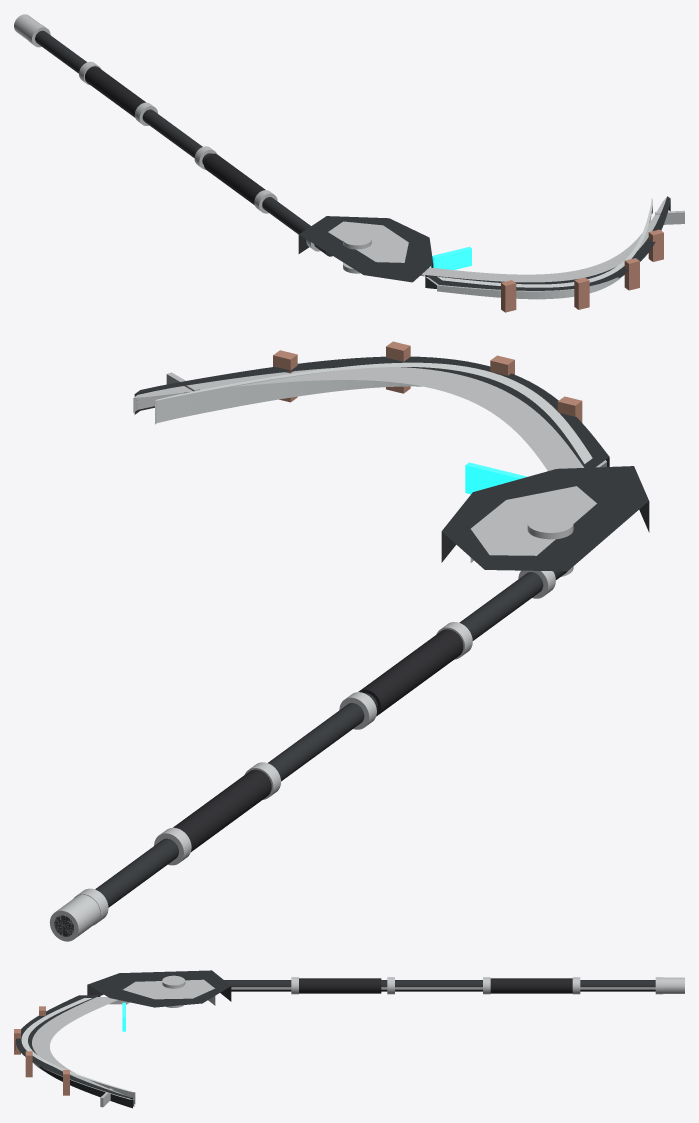
The model's file is night_current_scythe_v01.glb.
3 views of the same model, one above another, from view 1: azimuth 30°, elevation 25°; view 2: azimuth 150°, elevation 25°; view 3: azimuth 270°, elevation 25° (orthographic). The views are drawn at different scales.
Parts seen in each view (by area): view 1: head_black_body, shaft_core, blade_silver, pearl_inlay, ceramic_spine, head_silver_insert, grip_1.08, grip_0.48, cyan_status, copper_bridge_1, copper_bridge_0, copper_bridge_2; view 2: head_black_body, blade_silver, shaft_core, pearl_inlay, ceramic_spine, head_silver_insert, grip_1.08, grip_0.48, butt_cap, cyan_status, joint_disc_0.033; view 3: head_black_body, shaft_core, blade_silver, ceramic_spine, grip_0.48, grip_1.08, head_silver_insert, pearl_inlay, shaft_channel, butt_cap, joint_disc_0.033.
Boxes of the visible parts, x1,y1,x2,y2 form: head_black_body: [298, 216, 433, 282]; shaft_core: [35, 30, 332, 256]; blade_silver: [420, 197, 666, 291]; pearl_inlay: [437, 198, 652, 299]; ceramic_spine: [425, 196, 670, 290]; head_silver_insert: [328, 221, 408, 262]; grip_1.08: [204, 153, 265, 205]; grip_0.48: [84, 66, 145, 117]; cyan_status: [431, 246, 471, 269]; copper_bridge_1: [574, 277, 589, 309]; copper_bridge_0: [501, 280, 516, 312]; copper_bridge_2: [624, 258, 639, 290]; head_black_body: [441, 466, 649, 571]; blade_silver: [133, 367, 606, 470]; shaft_core: [54, 571, 567, 936]; pearl_inlay: [155, 362, 592, 463]; ceramic_spine: [134, 356, 609, 467]; head_silver_insert: [470, 486, 596, 562]; grip_1.08: [358, 629, 463, 716]; grip_0.48: [173, 769, 271, 851]; butt_cap: [49, 894, 100, 941]; cyan_status: [465, 462, 527, 494]; joint_disc_0.033: [527, 513, 573, 539]; head_black_body: [87, 970, 231, 1007]; shaft_core: [222, 980, 655, 991]; blade_silver: [32, 997, 134, 1106]; ceramic_spine: [15, 995, 132, 1108]; grip_0.48: [490, 978, 572, 993]; grip_1.08: [299, 978, 381, 993]; head_silver_insert: [123, 979, 215, 1005]; pearl_inlay: [21, 998, 135, 1103]; shaft_channel: [231, 987, 655, 989]; butt_cap: [663, 977, 684, 993]; joint_disc_0.033: [162, 975, 185, 988].
Bounding box in the file's own units: 0.837 × 0.0706 × 1.9.
